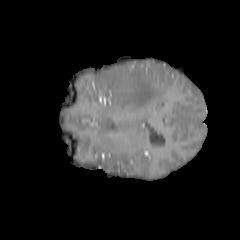glioma: (93, 62, 166, 112)
